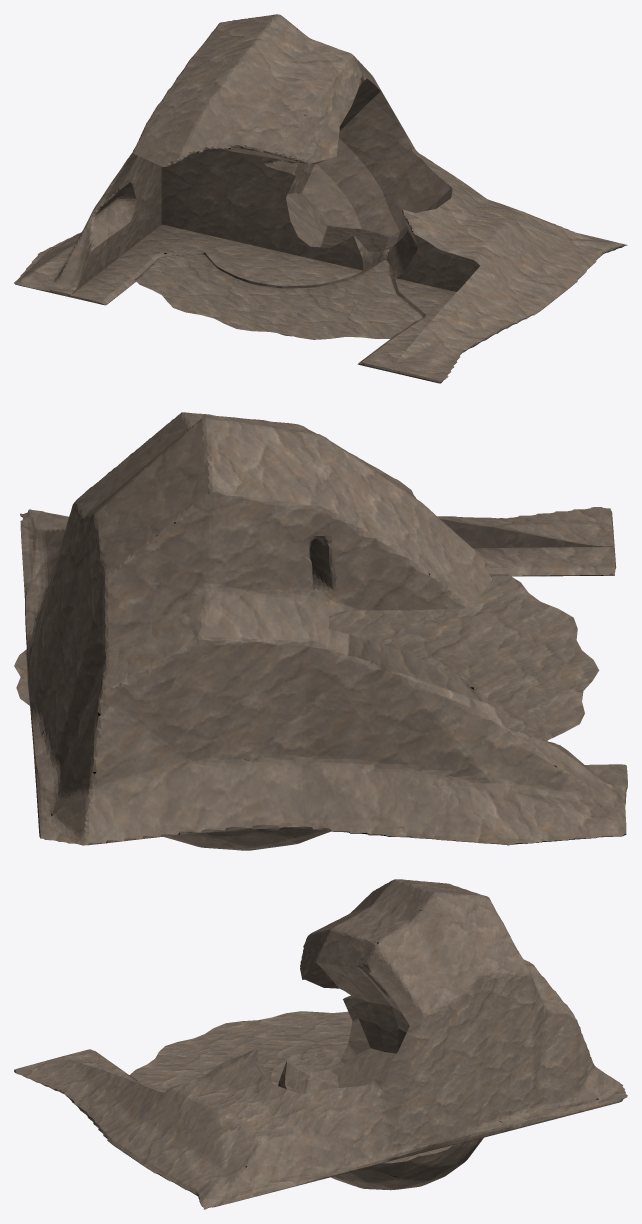
Rendered from REJECTED-candidate.glb.
3 views of the same model, one above another, from view 1: azimuth 30°, elevation 25°; view 2: azimuth 150°, elevation 25°; view 3: azimuth 270°, elevation 25° (orthographic). The views are drawn at different scales.
Visible parts, largest first — view 1: Authored asymmetric fractured strata; view 2: Authored asymmetric fractured strata; view 3: Authored asymmetric fractured strata.
Boxes of the visible parts, <box> form: Authored asymmetric fractured strata: <box>14,14,627,383</box>; Authored asymmetric fractured strata: <box>14,412,627,850</box>; Authored asymmetric fractured strata: <box>14,879,627,1209</box>.
Bounding box in the file's own units: 23.74 × 13.05 × 25.25.
Materials: 1 (1 with a texture image).
